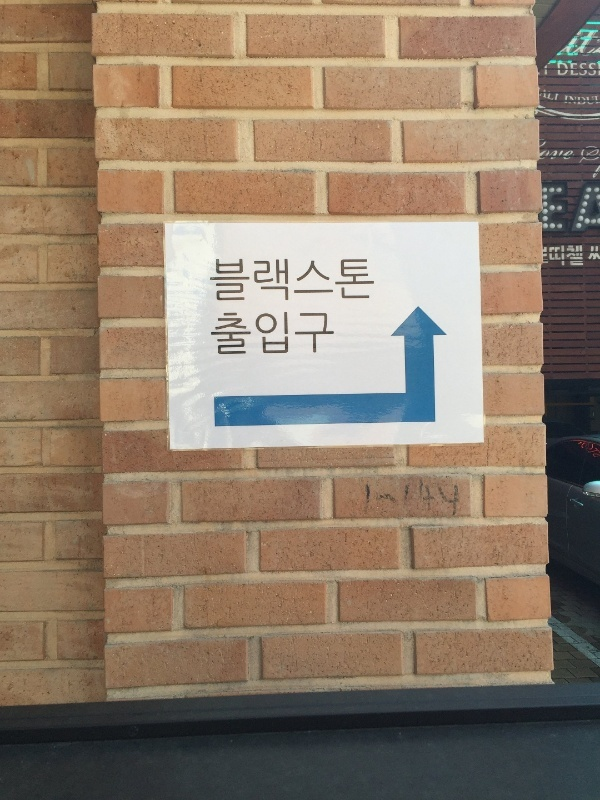text: (545, 185, 560, 231), (561, 185, 576, 231), (577, 185, 592, 231), (225, 311, 240, 356), (241, 311, 256, 356), (257, 311, 272, 356), (273, 311, 288, 356), (289, 311, 304, 356), (305, 311, 320, 356), (209, 259, 224, 304), (225, 259, 240, 304), (241, 259, 256, 304), (257, 259, 272, 304), (273, 259, 288, 304), (289, 259, 304, 304), (305, 259, 320, 304), (321, 259, 336, 304), (337, 259, 352, 304), (353, 259, 368, 304), (211, 311, 224, 356), (321, 311, 334, 356), (579, 27, 592, 57), (545, 136, 560, 161), (561, 136, 576, 161), (561, 244, 576, 267), (593, 185, 600, 231), (369, 259, 375, 304), (549, 244, 560, 267), (561, 62, 576, 78), (577, 62, 592, 78), (593, 27, 600, 57), (545, 87, 559, 102), (577, 94, 592, 106), (577, 244, 584, 267), (564, 94, 576, 106), (593, 245, 600, 262), (540, 136, 544, 161), (542, 185, 544, 231), (593, 94, 600, 106), (539, 87, 544, 102), (588, 245, 592, 262), (593, 62, 597, 78), (557, 62, 560, 78)
